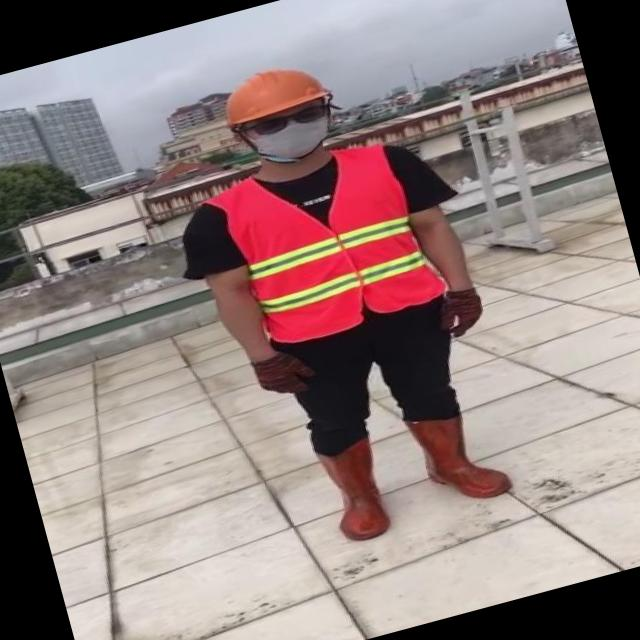hard_hat: (212, 56, 332, 130)
safety_vest: (210, 133, 448, 352)
vehicle: (140, 21, 547, 568)
work_boots: (408, 396, 514, 513), (313, 436, 395, 546)
